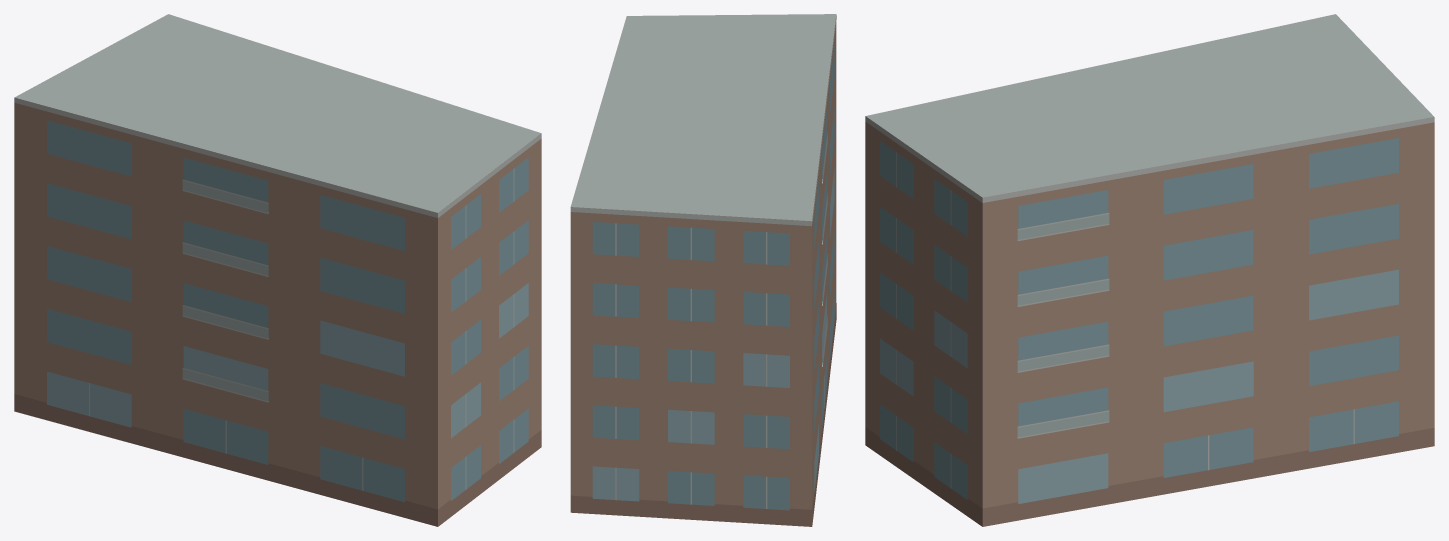
File: survey-upis-32720209.glb
The picture shows the model from 3 angles, left to right: view 1: azimuth 30°, elevation 25°; view 2: azimuth 150°, elevation 25°; view 3: azimuth 270°, elevation 25°; orthographic projection. The views are drawn at different scales.
Parts seen in each view (by area): view 1: survey-upis-32720209.tmp; view 2: survey-upis-32720209.tmp; view 3: survey-upis-32720209.tmp.
Boxes of the visible parts, x1,y1,x2,y2 form: survey-upis-32720209.tmp: (14,14,541,526); survey-upis-32720209.tmp: (570,14,836,526); survey-upis-32720209.tmp: (865,14,1434,526).
Bounding box in the file's own units: 17.96 × 15 × 23.51.
